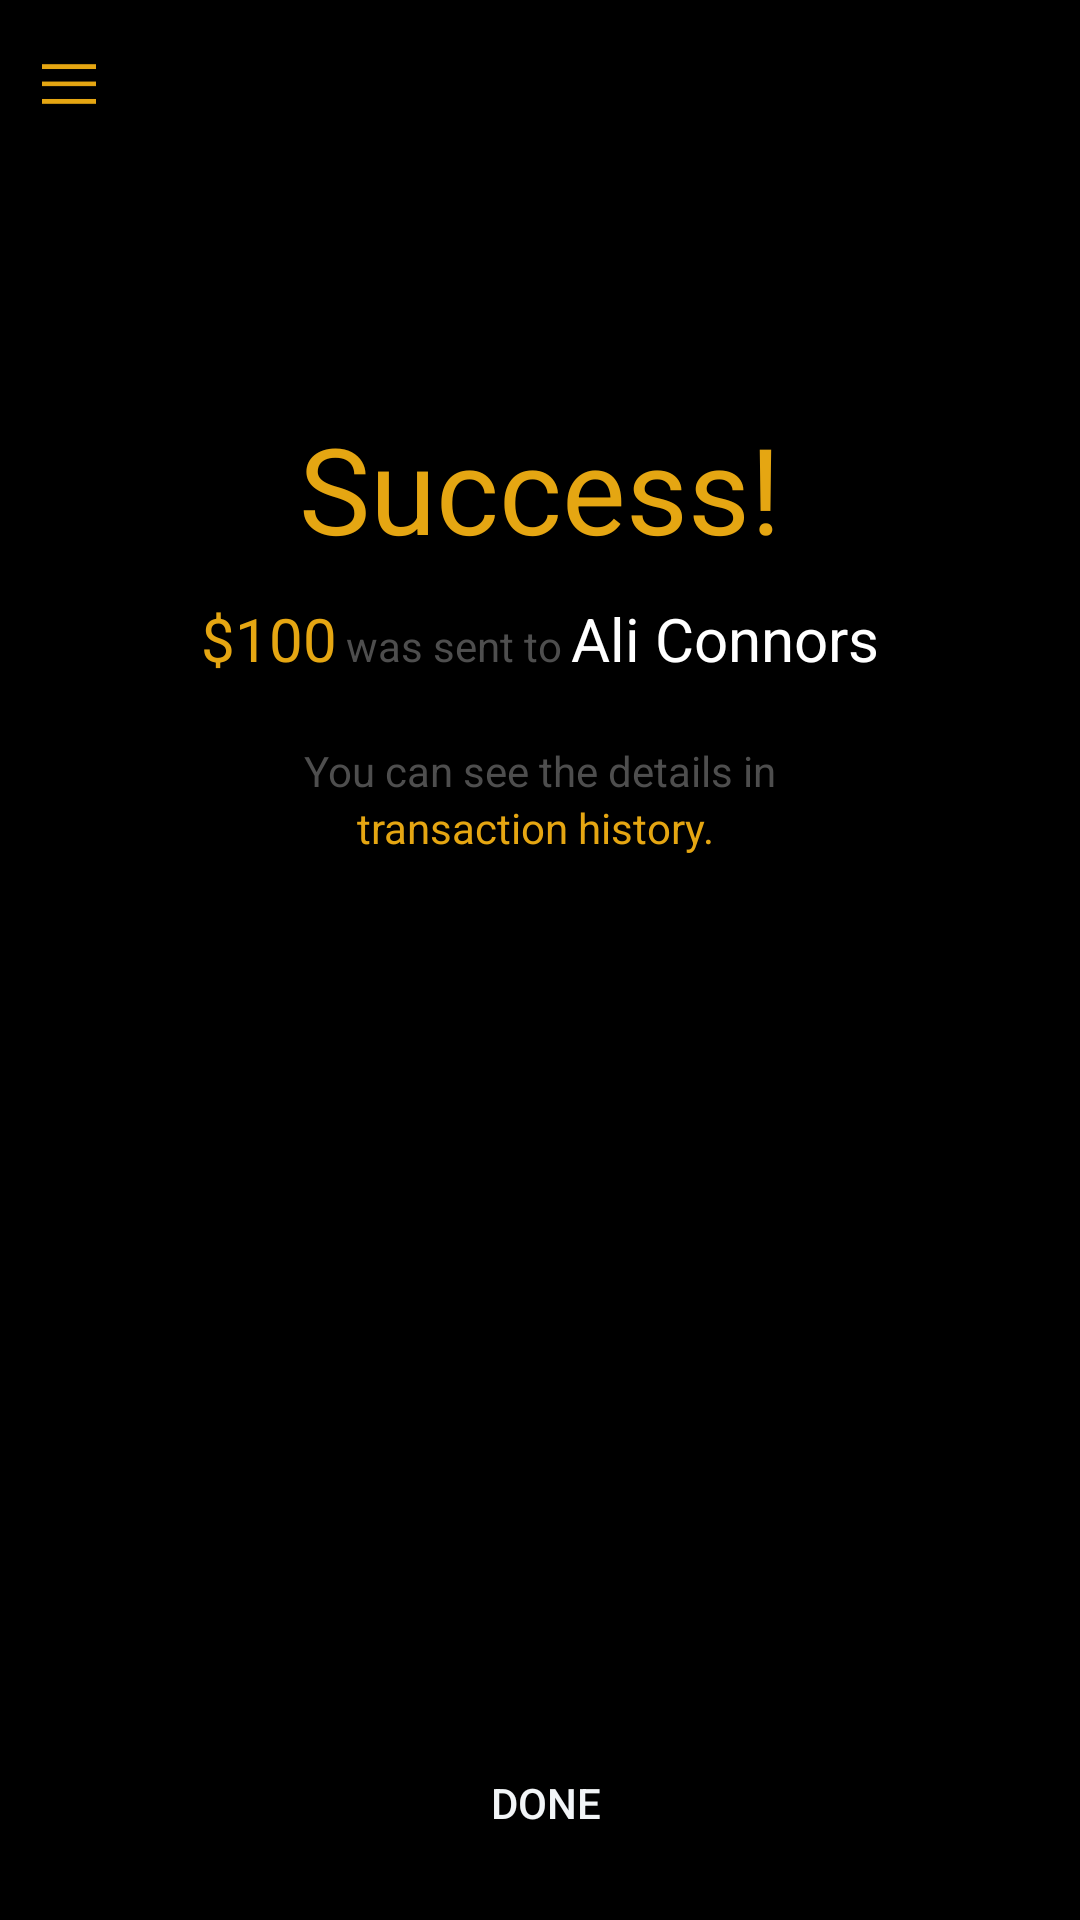

Where icons sit on this 1080 × 1920 app screen, as (x1, y1, x2, y2):
menu: (42, 64, 96, 104)
